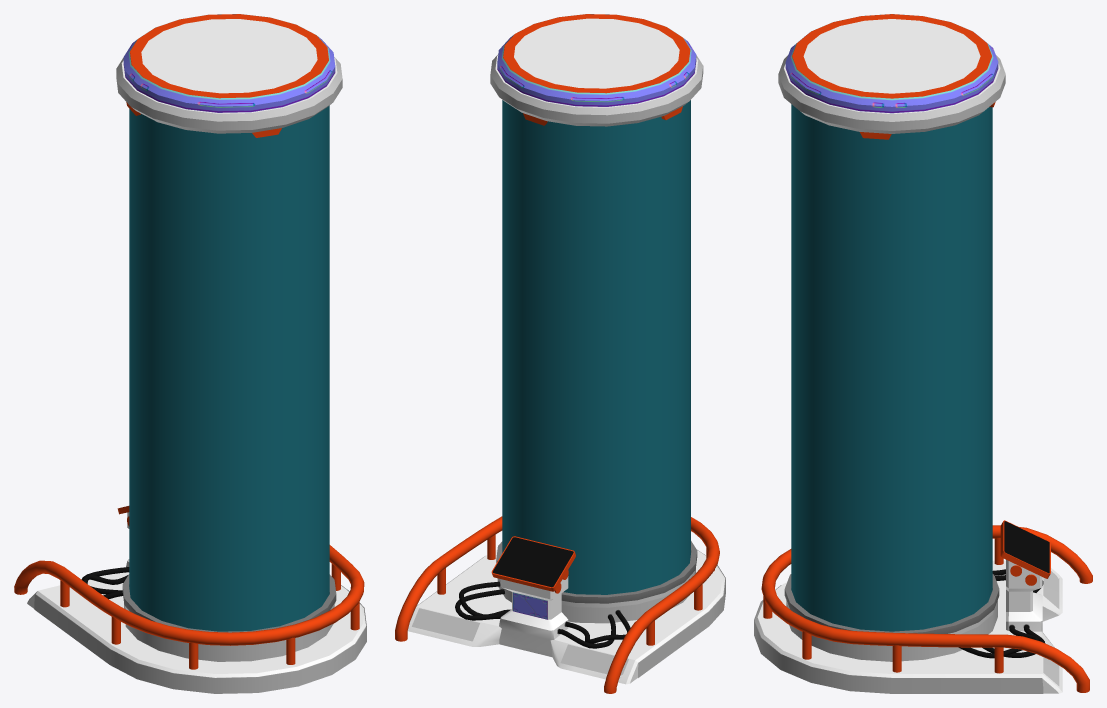
The model's file is S_assete_tank_parti_2.fbx.
3 views of the same model, side by side, from view 1: azimuth 30°, elevation 25°; view 2: azimuth 150°, elevation 25°; view 3: azimuth 270°, elevation 25° (orthographic). The views are drawn at different scales.
Visible parts, largest first — view 1: socle; view 2: socle; view 3: socle.
Boxes of the visible parts, <box> form: socle: <box>14,14,366,693</box>; socle: <box>395,14,725,693</box>; socle: <box>754,14,1092,693</box>.
Bounding box in the file's own units: 262 × 607 × 322.
